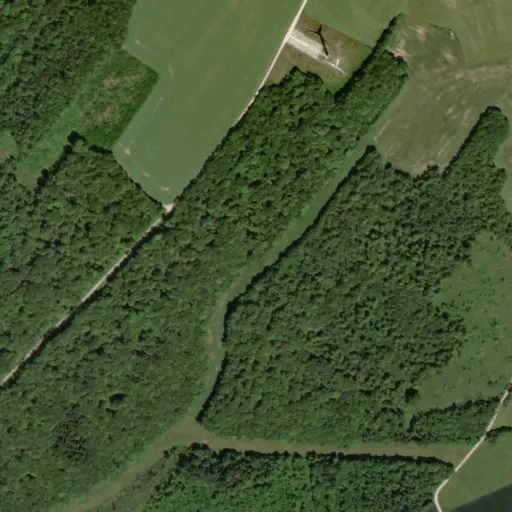wt: (301, 13, 351, 86)
